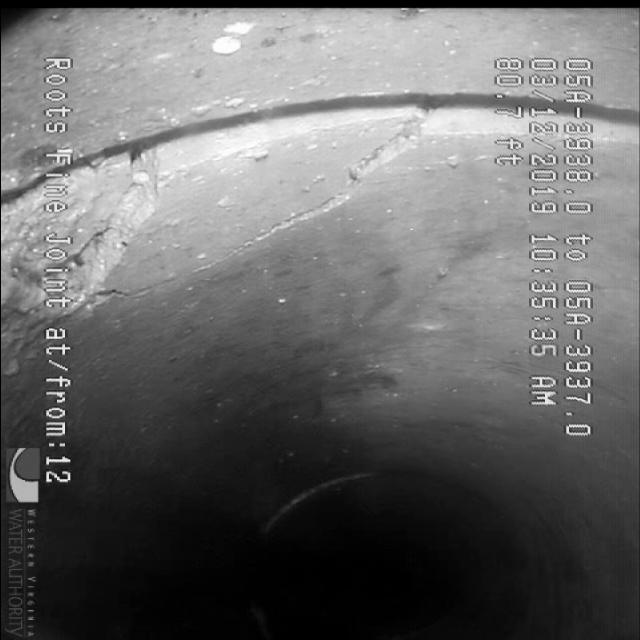Crack: (180, 121, 492, 282)
